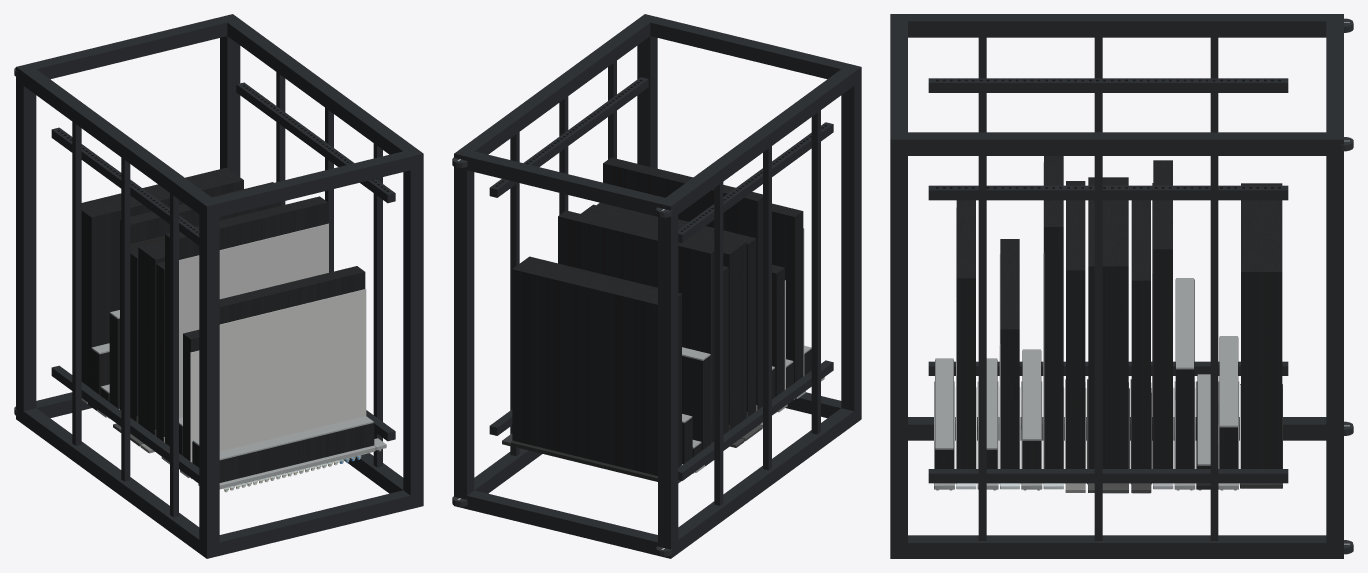
Rendered from cisco-edge-16u.glb.
3 renders of one model, left to right at view 1: azimuth 30°, elevation 25°; view 2: azimuth 150°, elevation 25°; view 3: azimuth 270°, elevation 25°, orthographic. The views are drawn at different scales.
Visible parts, largest first — view 1: RACK_FRAME__nexus_black, C9300_48P__c93_lid, SIDE_BRACES__nexus_black, SMT1500RM2U__steel_textured, NEXUS_9336C__nx_lid, MOUNTING_RAILS__nexus_black, NEXUS_9336C__steel_textured, C9300_48P__steel_textured, ISR4451X__steel_textured, PATCH_PANEL_A__steel_textured, PATCH_PANEL_A__cisco_grey_dark, FIREPOWER_2140__steel_textured (+6 smaller); view 2: RACK_FRAME__nexus_black, SMT1500RM2U__steel_textured, SIDE_BRACES__nexus_black, FIREPOWER_2140__steel_textured, MOUNTING_RAILS__nexus_black, NEXUS_9336C__steel_textured, ISR4451X__steel_textured, C9300_48P__steel_textured, ASR1001X__steel_textured, CONSOLE_SERVER__steel_textured, C9200L_24T_4G__steel_textured, ISR4331__steel_textured (+2 smaller); view 3: RACK_FRAME__nexus_black, MOUNTING_RAILS__nexus_black, SIDE_BRACES__nexus_black, SMT1500RM2U__steel_textured, ISR4451X__steel_textured, NEXUS_9336C__steel_textured, FIREPOWER_2140__steel_textured, ASR1001X__steel_textured, ISR4331__steel_textured, C9300_48P__steel_textured, C9200L_24T_4G__steel_textured, EDGE_PDU__cisco_grey_dark (+10 smaller).
Part boxes in pixels (<box>): RACK_FRAME__nexus_black: <box>16,14,423,558</box>; C9300_48P__c93_lid: <box>219,289,366,451</box>; SIDE_BRACES__nexus_black: <box>72,72,382,517</box>; SMT1500RM2U__steel_textured: <box>81,167,243,388</box>; NEXUS_9336C__nx_lid: <box>179,223,328,417</box>; MOUNTING_RAILS__nexus_black: <box>51,82,395,483</box>; NEXUS_9336C__steel_textured: <box>165,196,327,446</box>; C9300_48P__steel_textured: <box>219,266,365,324</box>; ISR4451X__steel_textured: <box>138,241,164,434</box>; PATCH_PANEL_A__steel_textured: <box>219,423,374,482</box>; PATCH_PANEL_A__cisco_grey_dark: <box>198,416,386,488</box>; FIREPOWER_2140__steel_textured: <box>120,182,280,410</box>; RACK_FRAME__nexus_black: <box>454,14,861,558</box>; SMT1500RM2U__steel_textured: <box>512,256,681,475</box>; SIDE_BRACES__nexus_black: <box>510,61,820,505</box>; FIREPOWER_2140__steel_textured: <box>558,210,714,443</box>; MOUNTING_RAILS__nexus_black: <box>489,77,833,480</box>; NEXUS_9336C__steel_textured: <box>603,157,762,409</box>; ISR4451X__steel_textured: <box>581,204,746,429</box>; C9300_48P__steel_textured: <box>772,203,803,382</box>; ASR1001X__steel_textured: <box>597,203,756,416</box>; CONSOLE_SERVER__steel_textured: <box>682,355,710,450</box>; C9200L_24T_4G__steel_textured: <box>772,264,784,396</box>; ISR4331__steel_textured: <box>723,266,728,434</box>; RACK_FRAME__nexus_black: <box>890,14,1343,558</box>; MOUNTING_RAILS__nexus_black: <box>928,78,1288,483</box>; SIDE_BRACES__nexus_black: <box>978,37,1218,540</box>; SMT1500RM2U__steel_textured: <box>1241,183,1282,468</box>; ISR4451X__steel_textured: <box>1088,177,1128,468</box>; NEXUS_9336C__steel_textured: <box>1044,156,1063,468</box>; FIREPOWER_2140__steel_textured: <box>1153,160,1172,468</box>; ASR1001X__steel_textured: <box>1066,181,1085,468</box>; ISR4331__steel_textured: <box>1131,200,1150,468</box>; C9300_48P__steel_textured: <box>956,200,975,468</box>; C9200L_24T_4G__steel_textured: <box>1000,239,1019,468</box>; EDGE_PDU__cisco_grey_dark: <box>1218,336,1239,489</box>.
Bounding box in the file's own units: 0.609 × 0.94 × 0.9422.
Materials: 167 (10 with a texture image).
